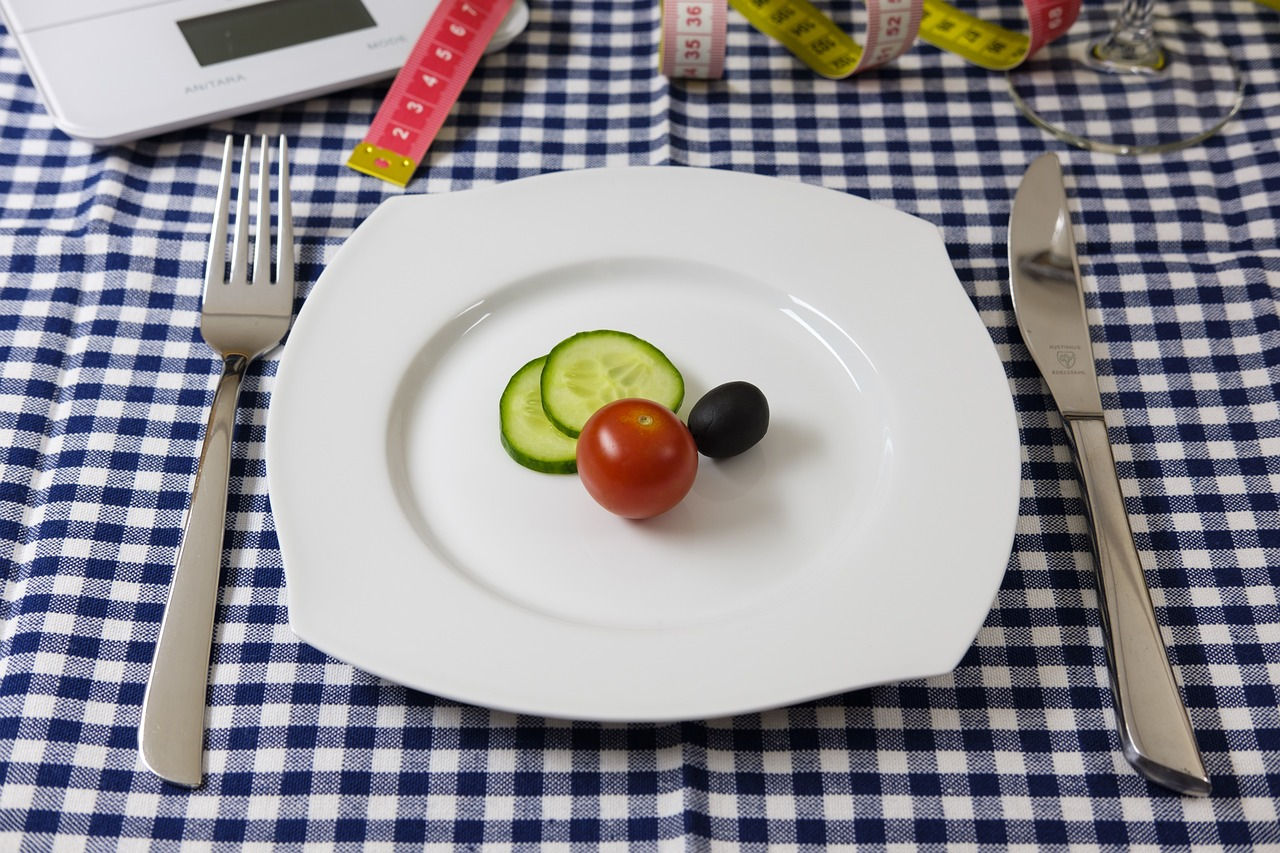knife: (1001, 134, 1216, 798)
